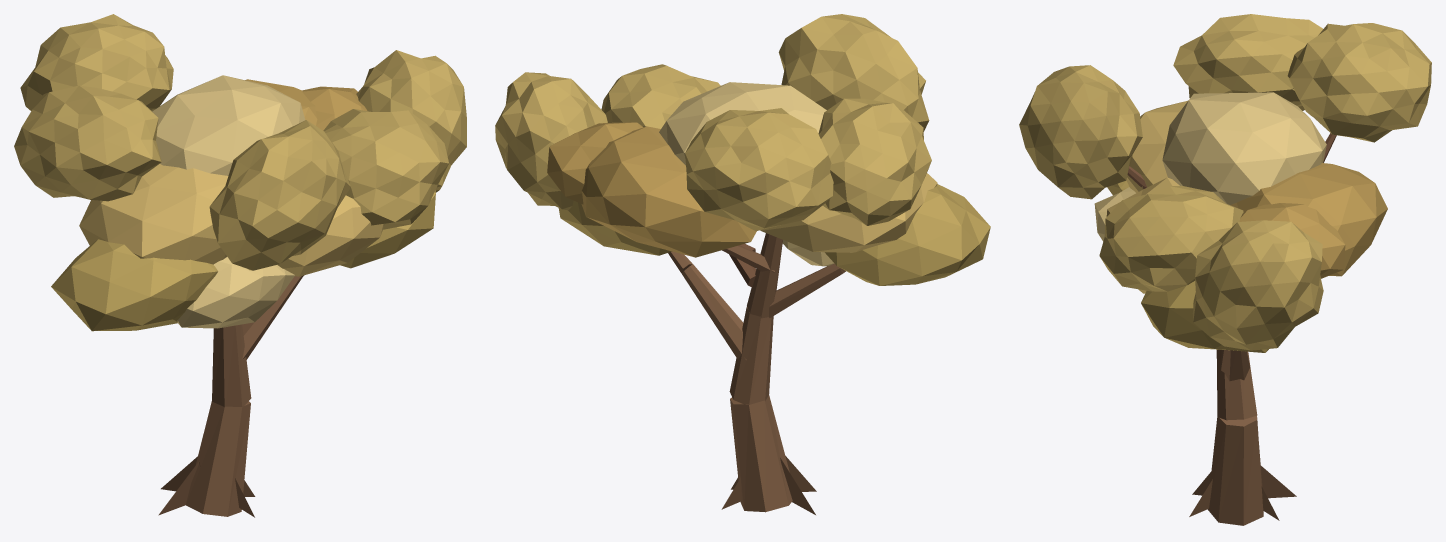
The model's file is goldenTree_3.glb.
The picture shows the model from 3 angles, left to right: view 1: azimuth 30°, elevation 25°; view 2: azimuth 150°, elevation 25°; view 3: azimuth 270°, elevation 25°; orthographic projection. The views are drawn at different scales.
Parts seen in each view (by area): view 1: foliage-0, foliage-2, foliage-1, surface; view 2: foliage-0, foliage-2, foliage-1, surface; view 3: foliage-2, foliage-0, foliage-1, surface.
Part boxes in pixels (x1,y1,x2,y2): foliage-0: (20, 14, 448, 331); foliage-2: (152, 50, 466, 276); foliage-1: (14, 85, 435, 268); surface: (158, 275, 303, 517); foliage-0: (581, 64, 990, 285); foliage-2: (495, 14, 929, 210); foliage-1: (547, 98, 937, 255); surface: (668, 233, 845, 514); foliage-2: (1019, 65, 1326, 350); foliage-0: (1094, 23, 1431, 291); foliage-1: (1126, 14, 1345, 352); surface: (1127, 133, 1336, 525).
Bounding box in the file's own units: 6.37 × 6.36 × 5.16.
